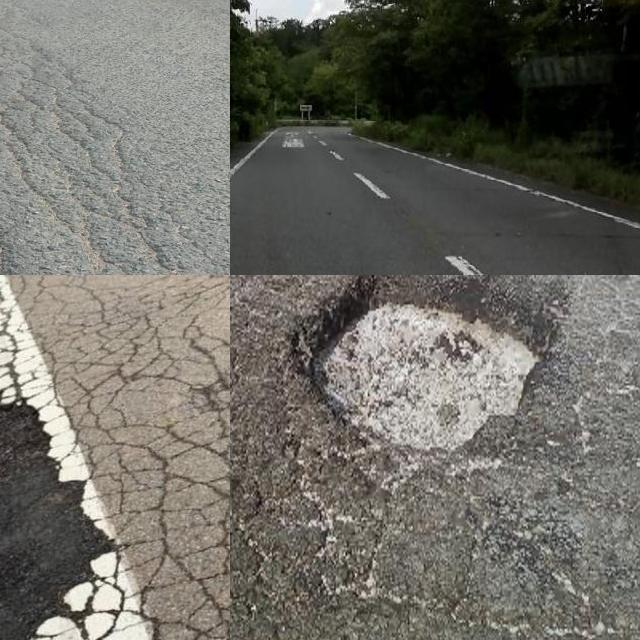Lubang: (311, 275, 561, 459)
Pinggir: (0, 388, 125, 640)
Retak Buaya: (0, 275, 230, 640), (0, 37, 208, 275)
